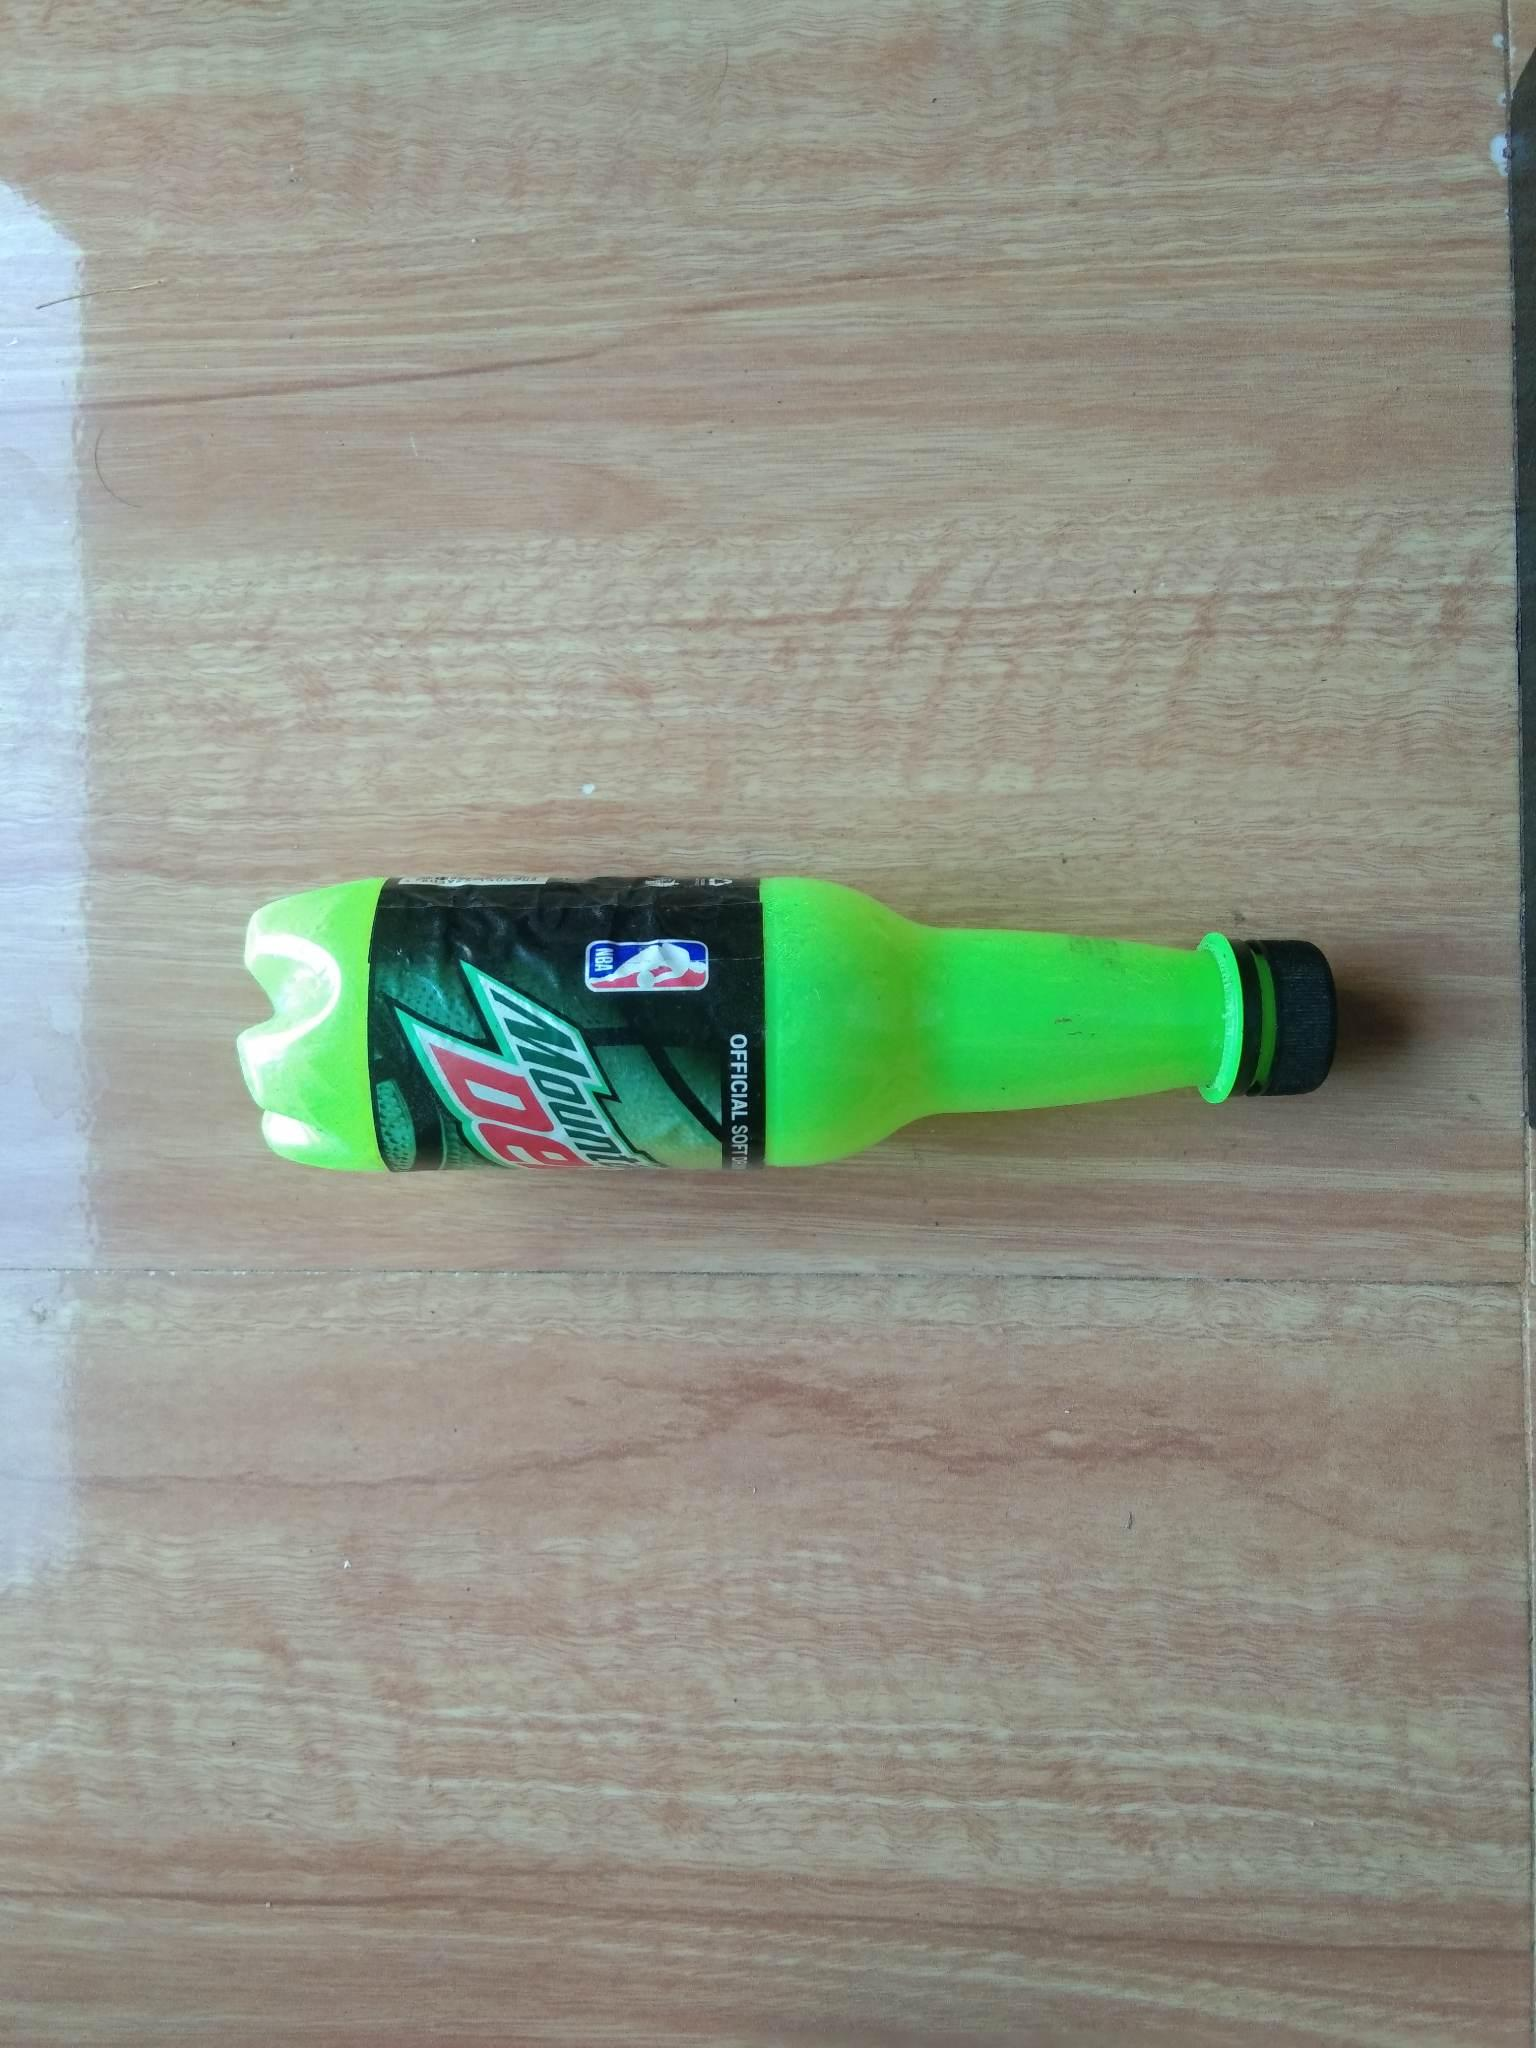plastic: (169, 814, 1386, 1284)
